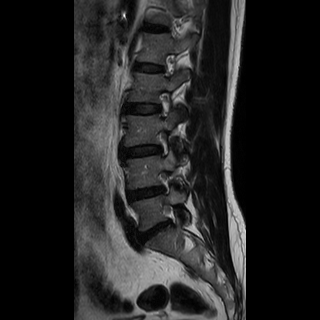LFS0: (148, 124, 174, 162), (150, 84, 176, 121), (156, 197, 184, 231)
LFS1: (151, 165, 177, 203)
